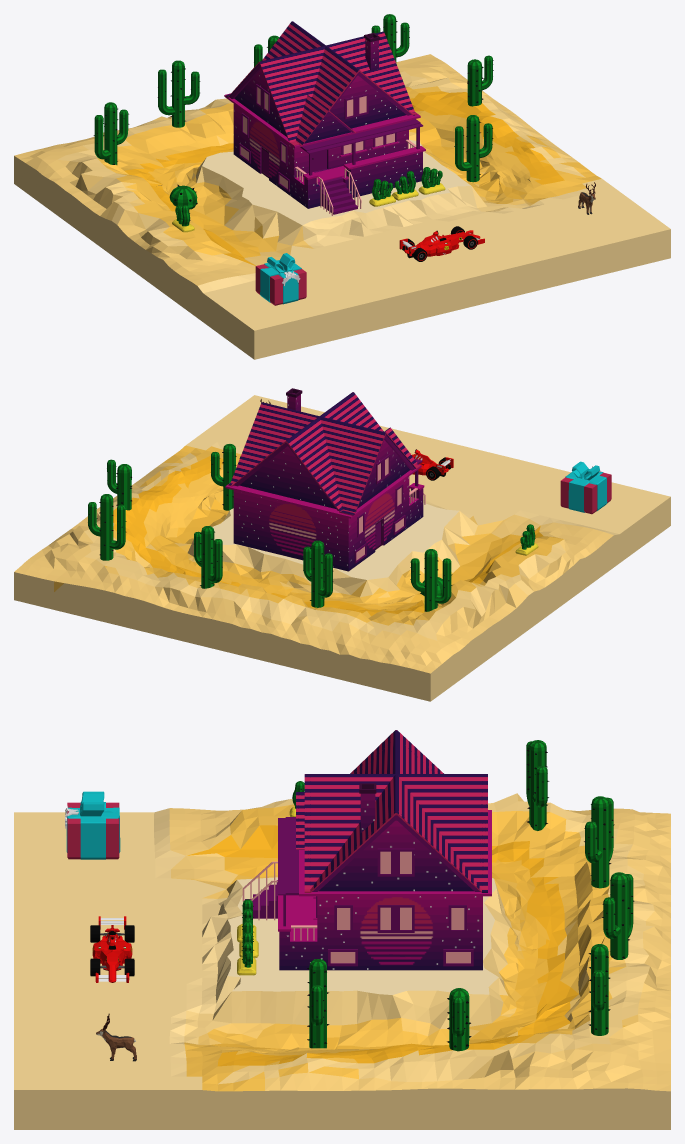
3 renders of one model, top to bottom at view 1: azimuth 30°, elevation 25°; view 2: azimuth 150°, elevation 25°; view 3: azimuth 270°, elevation 25°, orthographic. The views are drawn at different scales.
Parts seen in each view (by area): view 1: Cube.001, Cube.156, OBJRANDOM_GIANT_PRESENT, Cylinder.037, Cylinder.044, Cylinder.045, VEHICLES_FORMULA_1, Cylinder.038, Cylinder.042, Cylinder.039, Cylinder.041, Sphere.023 (+1 smaller); view 2: Cube.001, Cube.156, OBJRANDOM_GIANT_PRESENT, Cylinder.042, Cylinder.045, Cylinder.044, Cylinder.043, Cylinder.037, Cylinder.038, VEHICLES_FORMULA_1; view 3: Cube.001, Cube.156, OBJRANDOM_GIANT_PRESENT, VEHICLES_FORMULA_1, Cylinder.043, Cylinder.044, Cylinder.045, Cylinder.042, Cylinder.037, Cylinder.038, Cylinder.041, ANIMAL_VENADO.
Part boxes in pixels (x1,y1,x2,y2): Cube.001: (14,54,670,359); Cube.156: (224,21,425,215); OBJRANDOM_GIANT_PRESENT: (255,253,306,305); Cylinder.037: (454,115,493,182); Cylinder.044: (157,60,200,127); Cylinder.045: (93,102,129,164); VEHICLES_FORMULA_1: (399,226,484,261); Cylinder.038: (467,55,493,106); Cylinder.042: (371,14,409,62); Cylinder.039: (369,179,395,206); Cylinder.041: (418,167,445,194); Sphere.023: (169,184,197,209); Cube.001: (14,395,670,701); Cube.156: (225,388,425,571); OBJRANDOM_GIANT_PRESENT: (560,461,611,514); Cylinder.042: (88,494,126,560); Cylinder.045: (410,549,452,611); Cylinder.044: (303,540,333,607); Cylinder.043: (193,526,222,588); Cylinder.037: (211,444,240,510); Cylinder.038: (107,459,131,510); VEHICLES_FORMULA_1: (410,449,453,480); Cube.001: (14,793,670,1129); Cube.156: (242,730,491,970); OBJRANDOM_GIANT_PRESENT: (65,791,120,859); VEHICLES_FORMULA_1: (90,916,134,982); Cylinder.043: (602,872,634,959); Cylinder.044: (584,796,614,888); Cylinder.045: (526,740,549,830); Cylinder.042: (588,944,610,1035); Cylinder.037: (307,959,329,1048); Cylinder.038: (447,988,471,1051); Cylinder.041: (237,932,256,975); ANIMAL_VENADO: (96,1013,136,1061).
Bounding box in the file's own units: 4002 × 1605 × 4001.
35 materials, 4 textured.
